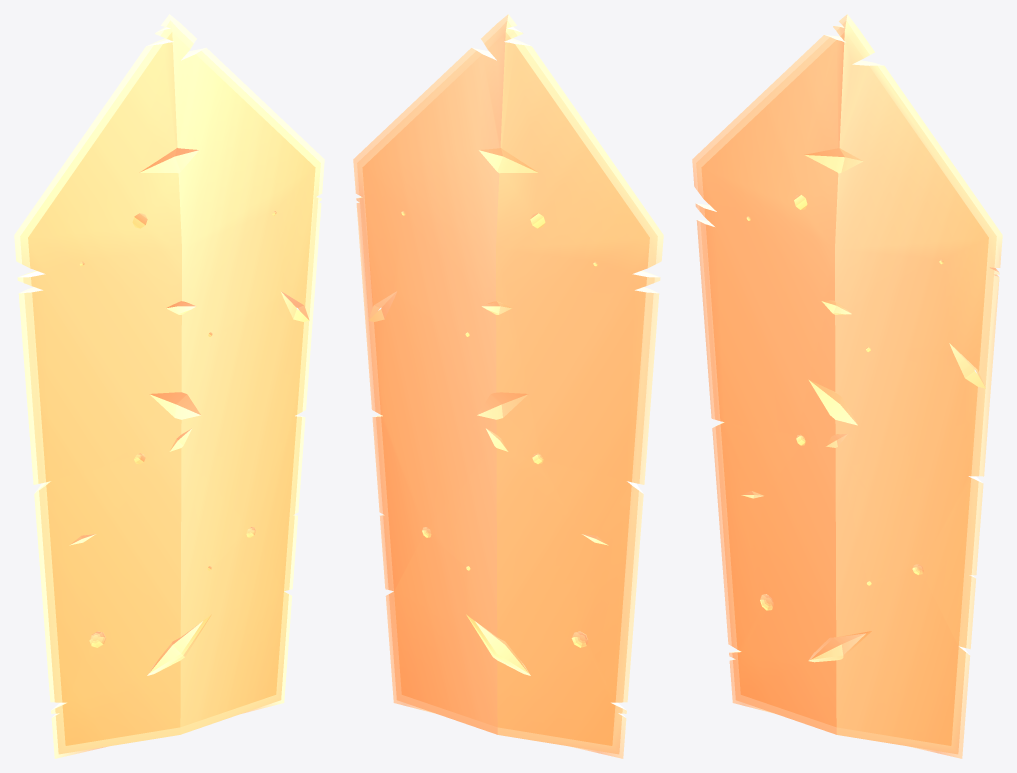
The model's file is wood_blade_bubbles_063.glb.
3 views of the same model, side by side, from view 1: azimuth 30°, elevation 25°; view 2: azimuth 150°, elevation 25°; view 3: azimuth 330°, elevation 25° (orthographic).
Parts seen in each view (by area): view 1: wood_blade_bubbles.063; view 2: wood_blade_bubbles.063; view 3: wood_blade_bubbles.063.
Part boxes in pixels (x1,y1,x2,y2): wood_blade_bubbles.063: [14, 14, 324, 758]; wood_blade_bubbles.063: [353, 14, 663, 758]; wood_blade_bubbles.063: [692, 14, 1002, 758].
Bounding box in the file's own units: 5.17 × 11.43 × 0.7262.
1 material, 1 textured.
